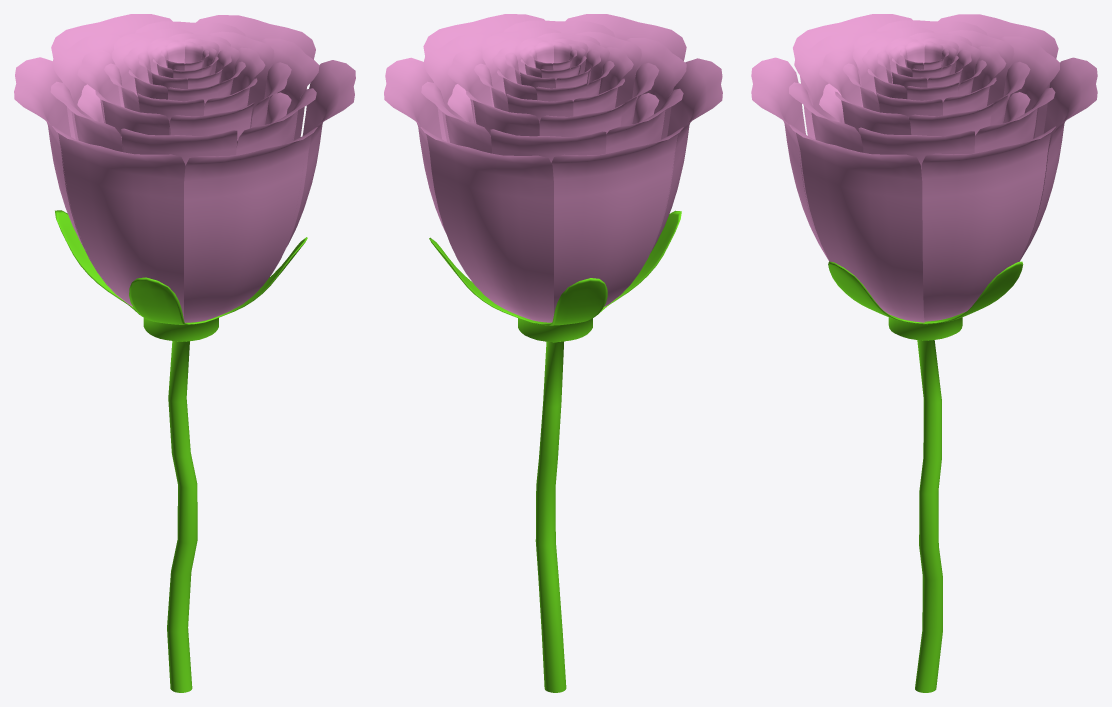
File: flower_2_(1).fbx
The picture shows the model from 3 angles, left to right: view 1: azimuth 30°, elevation 25°; view 2: azimuth 150°, elevation 25°; view 3: azimuth 270°, elevation 25°; orthographic projection.
Parts seen in each view (by area): view 1: Sphere.008, Sphere; view 2: Sphere.008, Sphere; view 3: Sphere.008, Sphere.
Part boxes in pixels (box(x1,y1,x2,y2)): Sphere.008: box(14, 14, 355, 322); Sphere: box(55, 210, 307, 692); Sphere.008: box(384, 14, 722, 322); Sphere: box(429, 210, 681, 692); Sphere.008: box(751, 14, 1097, 322); Sphere: box(828, 261, 1023, 692).
Bounding box in the file's own units: 138 × 291 × 144.
